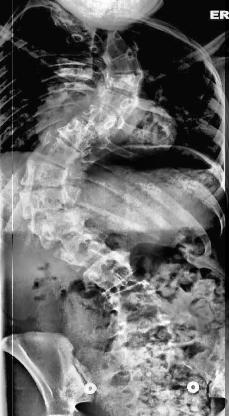Vertebrae: (56, 228, 104, 272), (19, 156, 76, 190), (88, 252, 138, 290), (16, 188, 76, 218), (107, 282, 163, 314), (106, 318, 180, 340), (29, 214, 79, 244), (38, 138, 82, 171), (108, 342, 174, 364), (60, 116, 97, 154), (94, 90, 140, 118), (80, 107, 120, 137), (105, 70, 143, 92), (102, 54, 140, 74), (95, 36, 127, 54)
